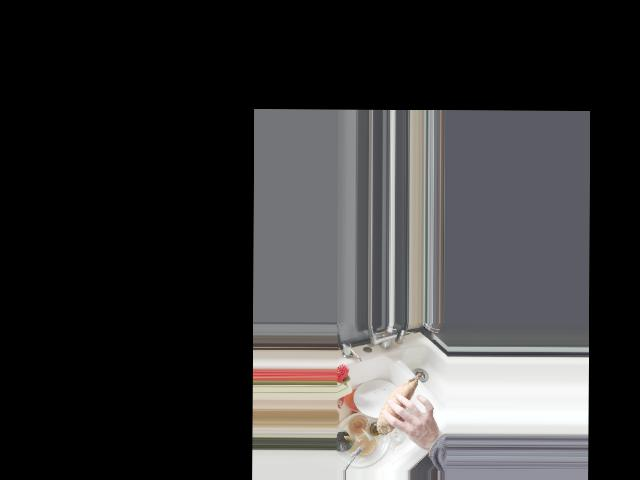sweet_potato: (376, 372, 421, 434)
